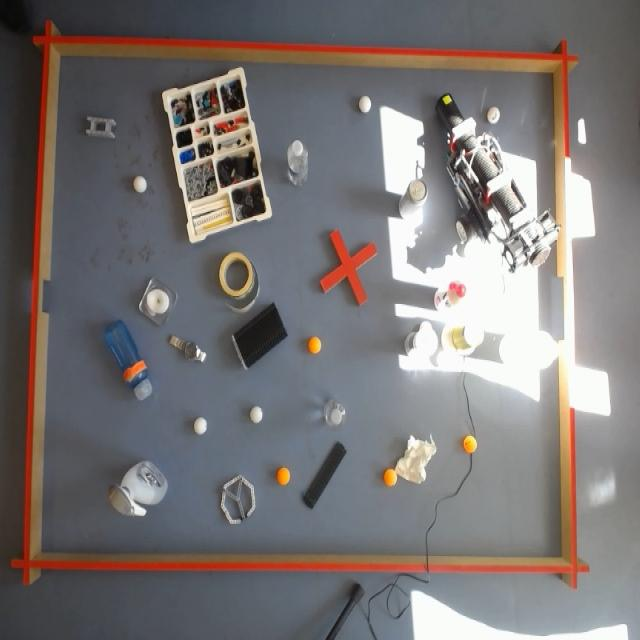orange: (462, 434, 478, 454), (275, 466, 291, 486), (306, 336, 322, 356), (383, 467, 397, 486)
robot: (435, 93, 561, 273)
robot-front: (436, 94, 463, 130)
white: (357, 94, 372, 117), (192, 416, 208, 437), (487, 106, 500, 124), (251, 405, 263, 424), (134, 176, 147, 193)
